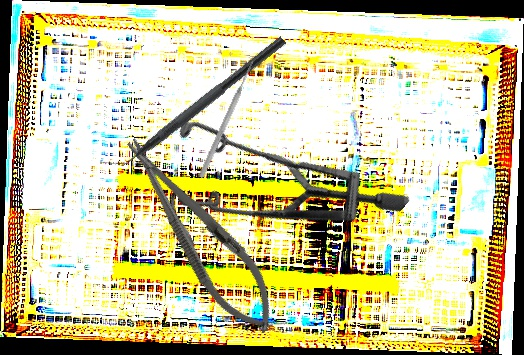Chopper: (102, 24, 287, 181)
Needle Holder: (108, 122, 293, 347)
Pusher: (197, 58, 257, 180)
Speculum: (132, 48, 413, 327)
